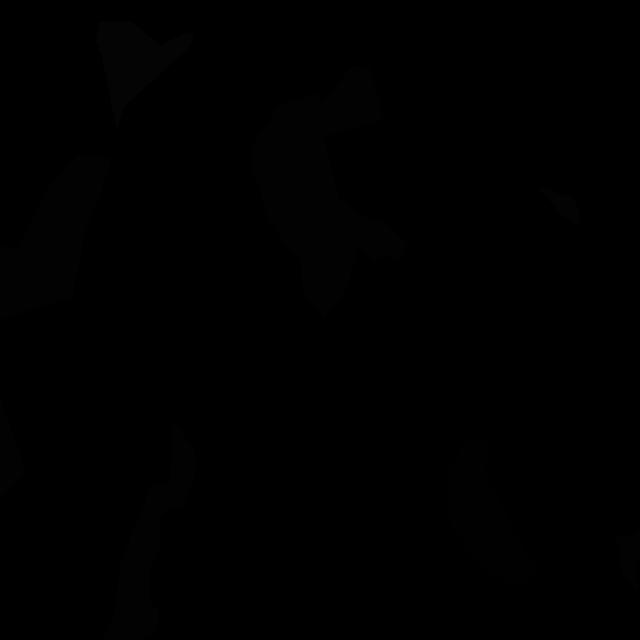cardboard: (252, 65, 408, 321), (103, 420, 198, 640), (0, 156, 111, 320), (0, 396, 26, 499), (616, 526, 640, 591)
metal: (539, 187, 580, 225)
rigid_plastic: (446, 436, 539, 586)
soft_plastic: (96, 21, 194, 132)
